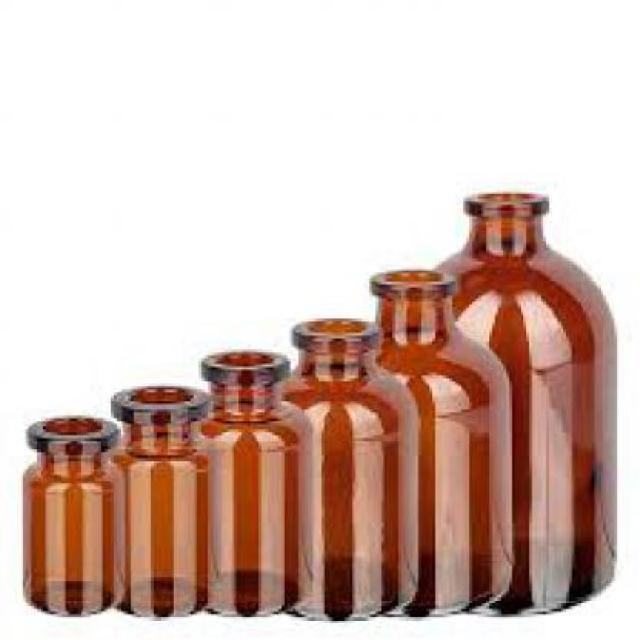kaca: (430, 191, 612, 611), (366, 268, 509, 617), (282, 315, 416, 617), (197, 351, 308, 618), (111, 385, 218, 612), (23, 418, 120, 611)
